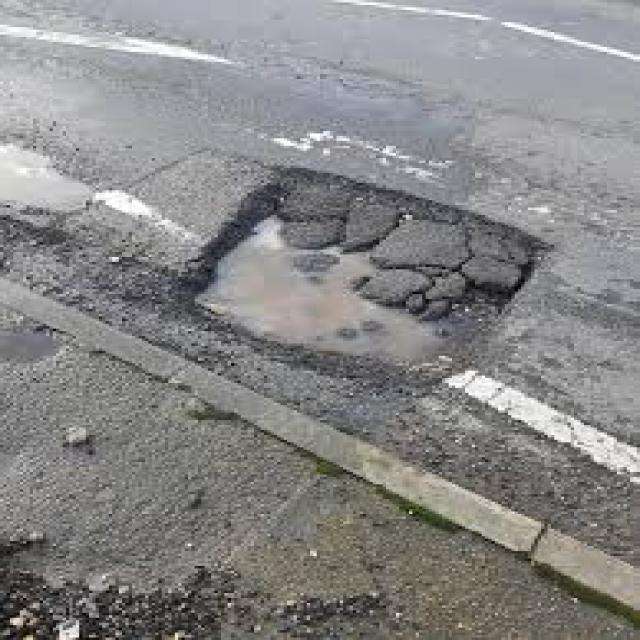Pothole: (195, 171, 534, 371)
